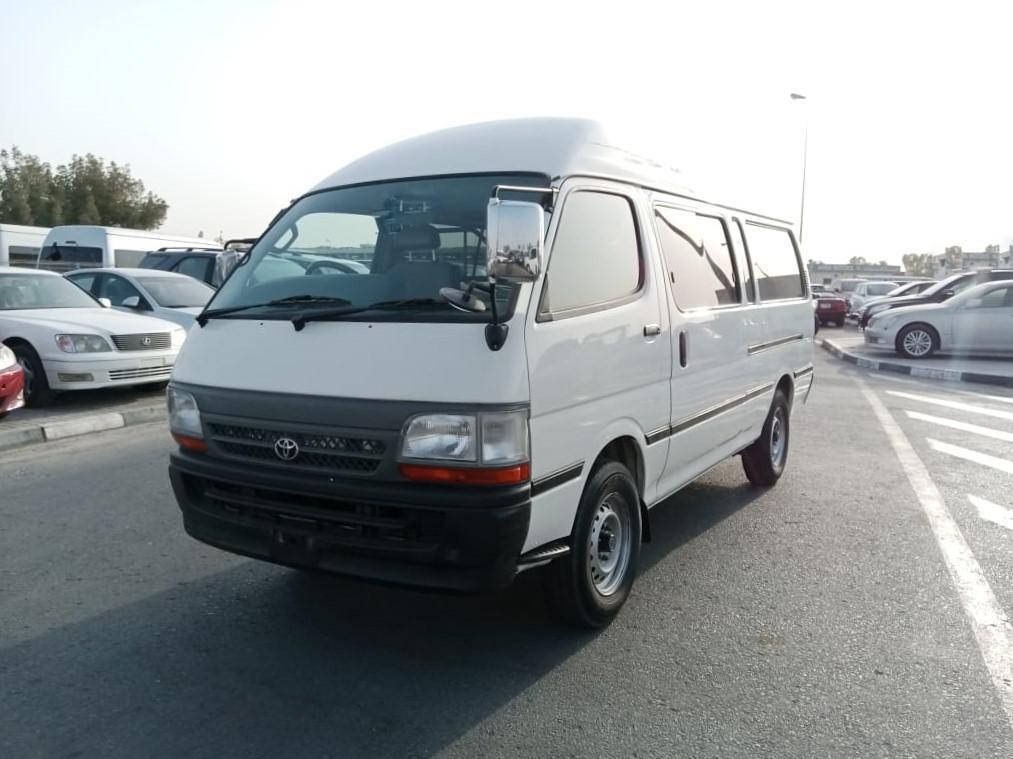Van: (167, 120, 818, 614)
